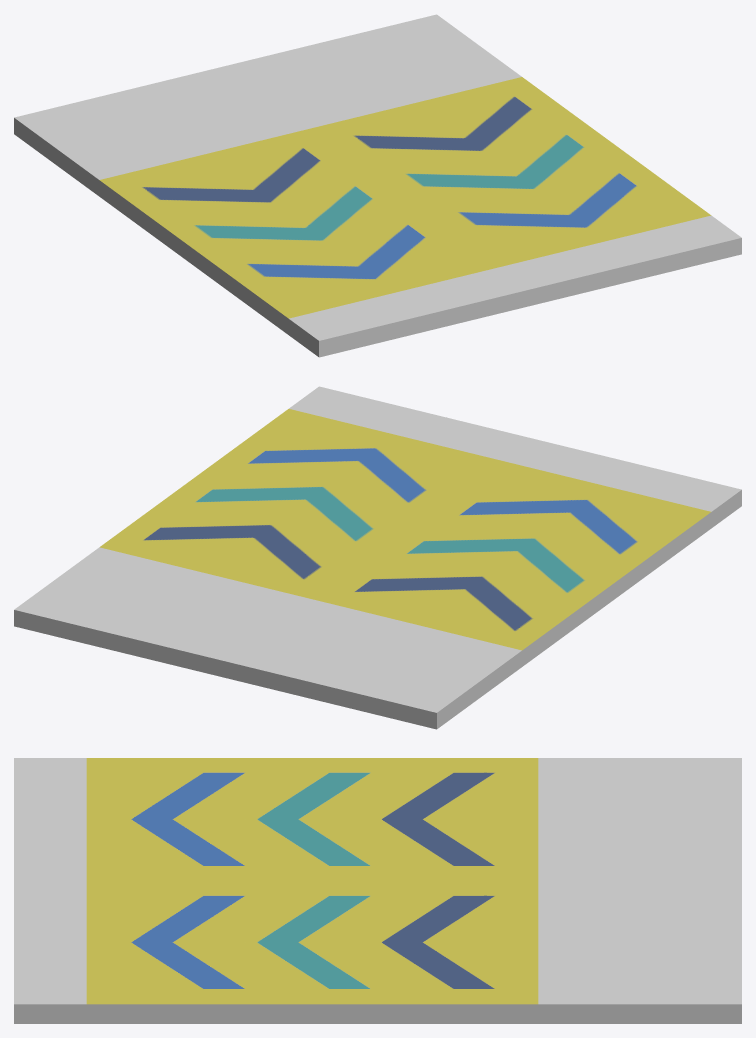
The model's file is Buster.fbx.
3 views of the same model, one above another, from view 1: azimuth 30°, elevation 25°; view 2: azimuth 150°, elevation 25°; view 3: azimuth 270°, elevation 25° (orthographic). The views are drawn at different scales.
Parts seen in each view (by area): view 1: Cube; view 2: Cube; view 3: Cube.
Boxes of the visible parts, x1,y1,x2,y2 form: Cube: (14,14,741,357); Cube: (14,386,741,729); Cube: (14,758,741,1023).
Size of the model in its own units: 16000 by 600 by 20000.
